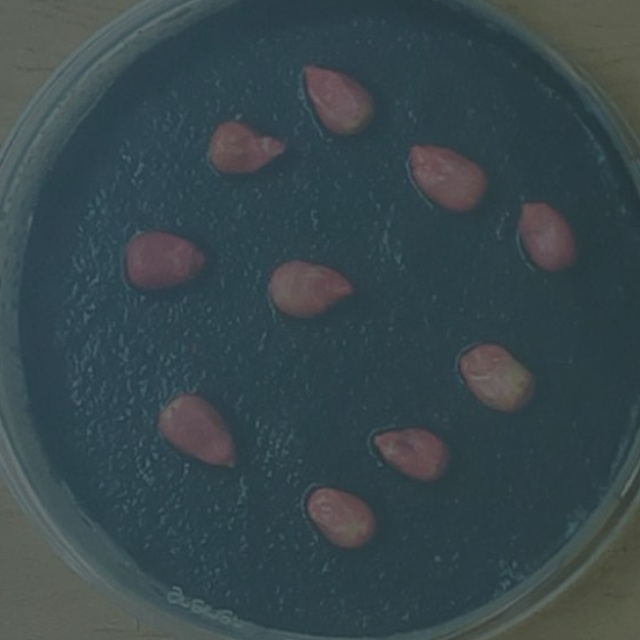Zea mays: (150, 386, 246, 481), (400, 134, 497, 223), (294, 53, 384, 144), (451, 336, 545, 422), (114, 223, 216, 302), (265, 253, 367, 328), (297, 477, 386, 560), (511, 194, 589, 284), (365, 419, 459, 492), (202, 113, 294, 186)
